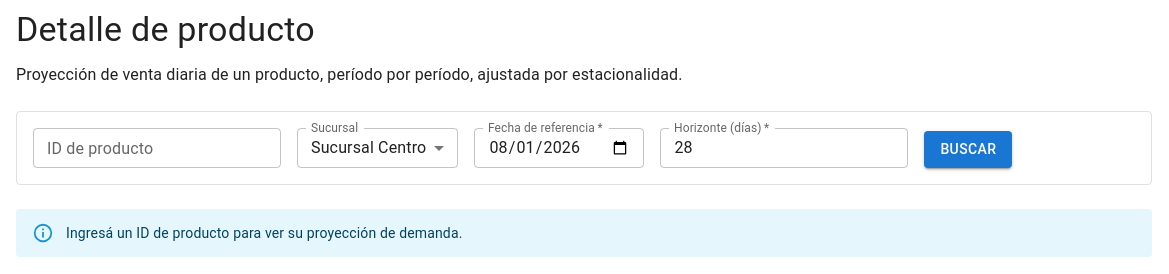
Test: ProductDetailPage › rechaza cero como ID de producto con un mensaje en español
This screenshot has width=1169, height=274.
Type "0" into the number field labelled "ID de producto" at (157, 148), box [33,128,281,168]
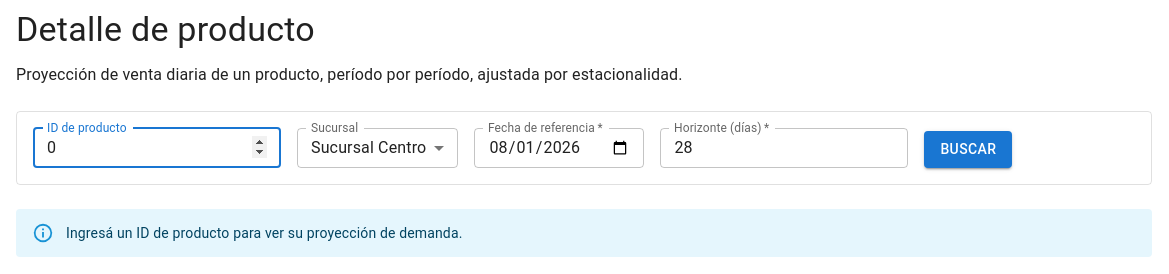
Click the button "Buscar" at (968, 150), box [924,131,1012,168]
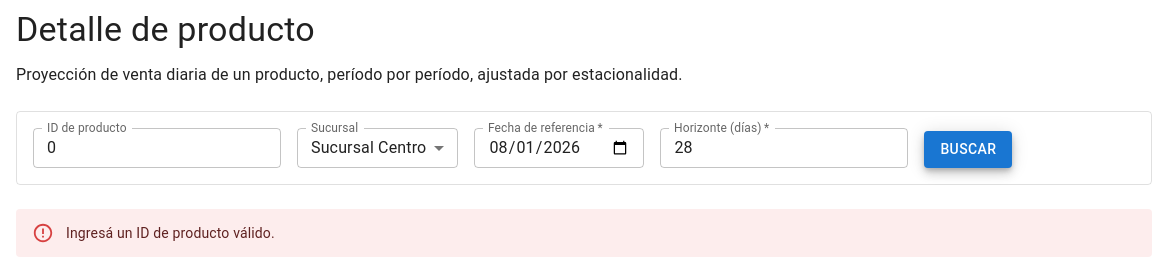
Now the text "Ingresá un ID de producto válido." is shown, box [66,225,275,241]
